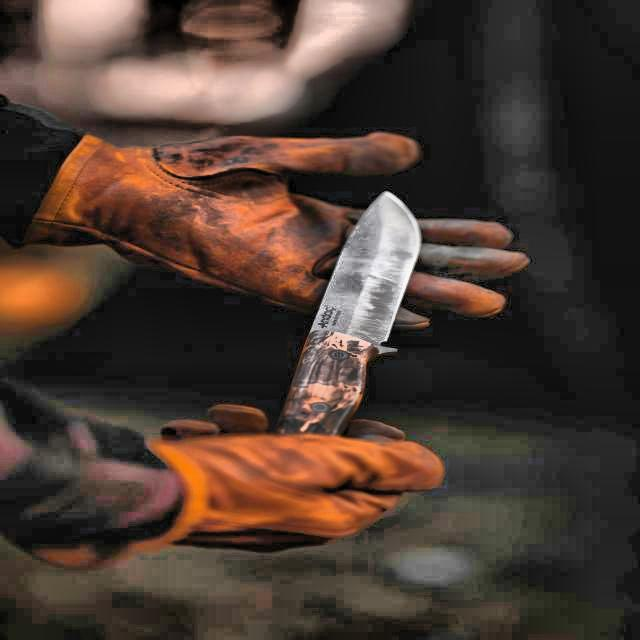knife: (244, 184, 440, 440)
